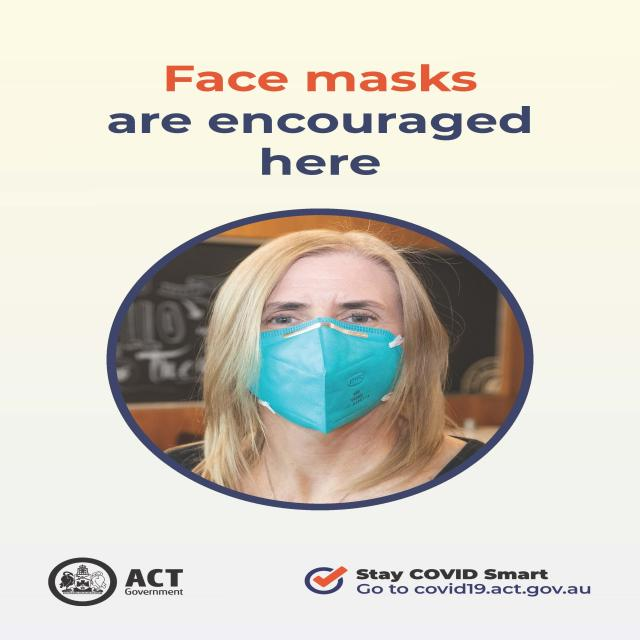1_mascarilla: (245, 317, 406, 434)
